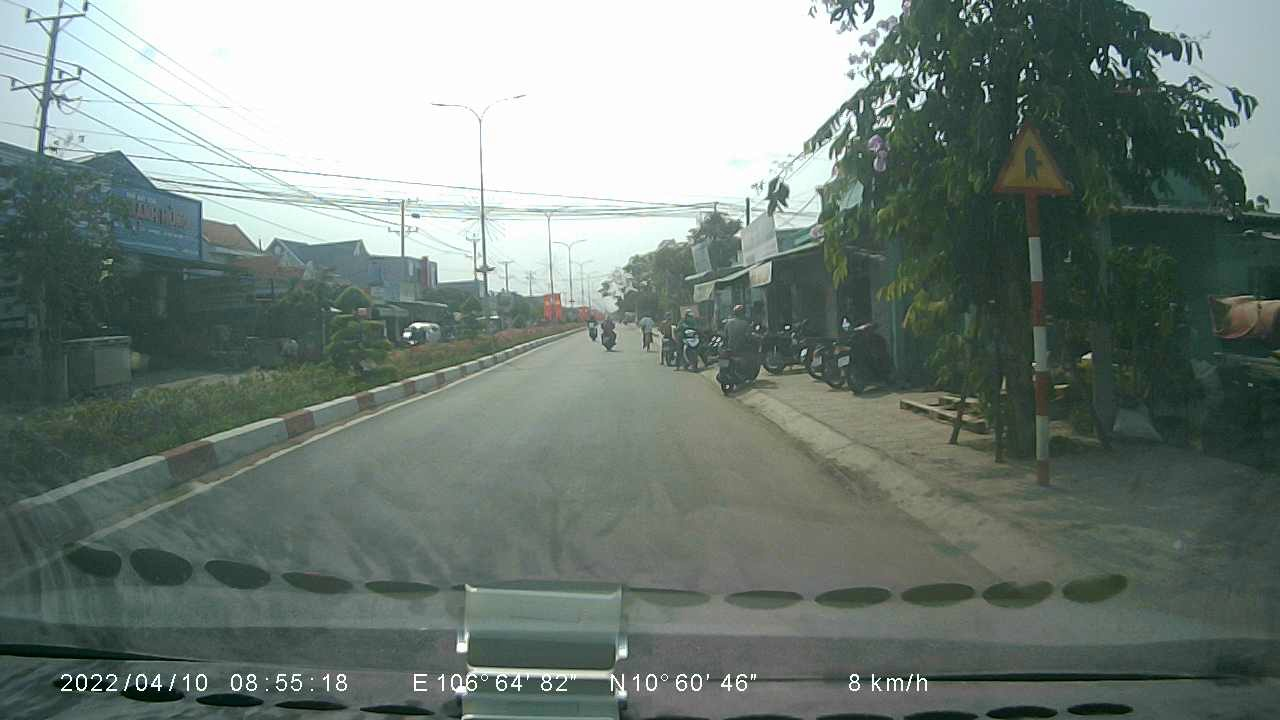Giao nhau voi duong khong uu tien: (986, 117, 1073, 202)
